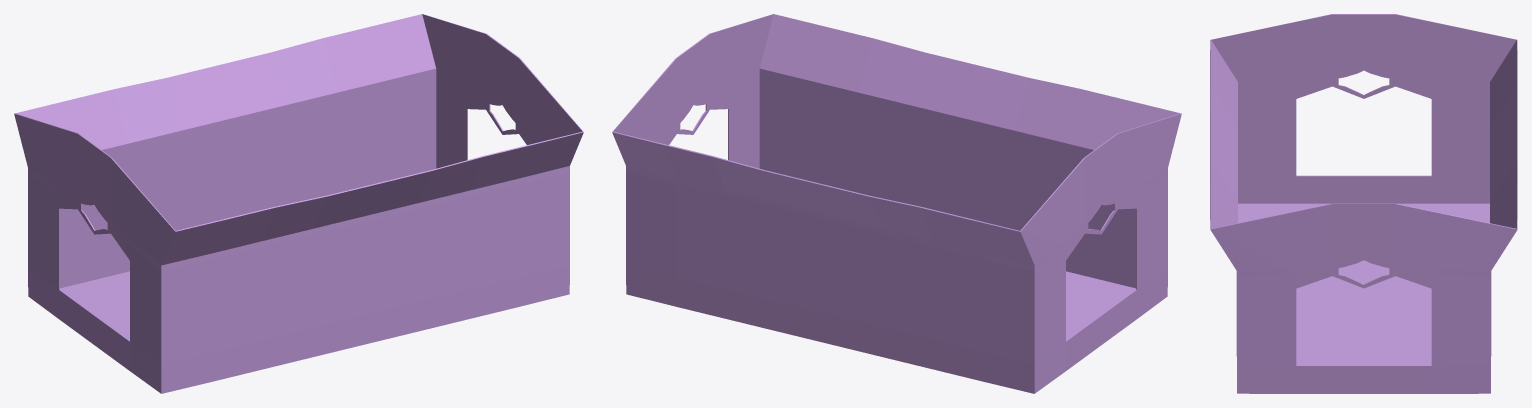
Rendered from FullUVRoom.fbx.
The picture shows the model from 3 angles, left to right: view 1: azimuth 30°, elevation 25°; view 2: azimuth 150°, elevation 25°; view 3: azimuth 270°, elevation 25°; orthographic projection. The views are drawn at different scales.
Visible parts, largest first — view 1: 0_RoomWorking.004; view 2: 0_RoomWorking.004; view 3: 0_RoomWorking.004.
Boxes of the visible parts, box(x1,y1,x2,y2) form: 0_RoomWorking.004: box(14, 14, 583, 393); 0_RoomWorking.004: box(612, 14, 1181, 393); 0_RoomWorking.004: box(1210, 14, 1517, 393).
Bounding box in the file's own units: 18405 × 8594 × 12599.
